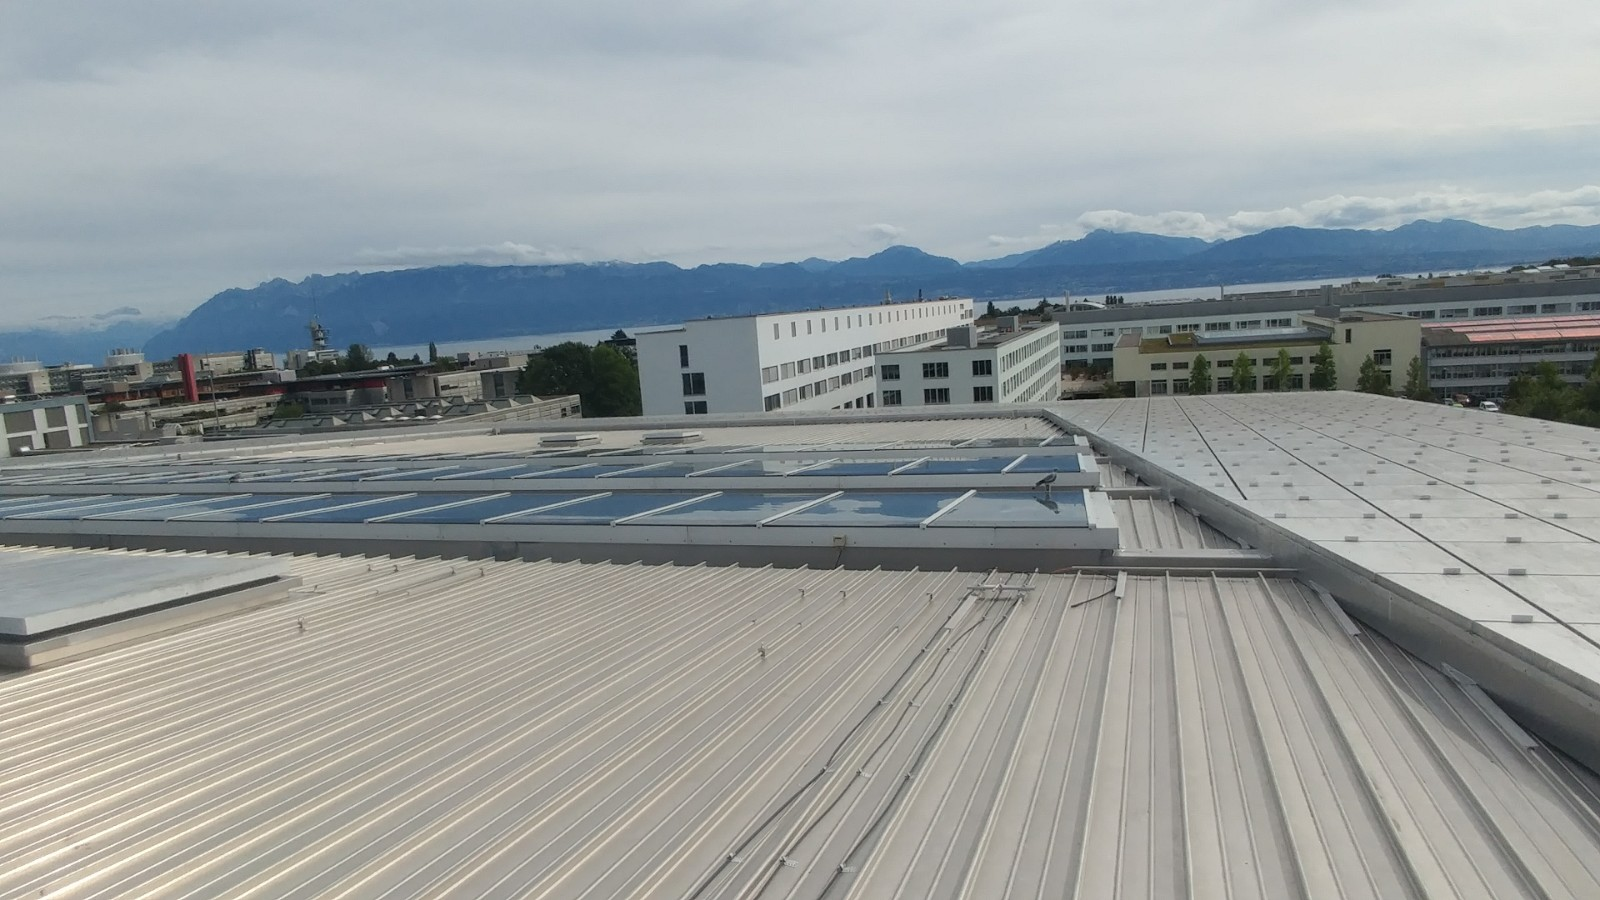Pigeon: (1030, 463, 1064, 495)
